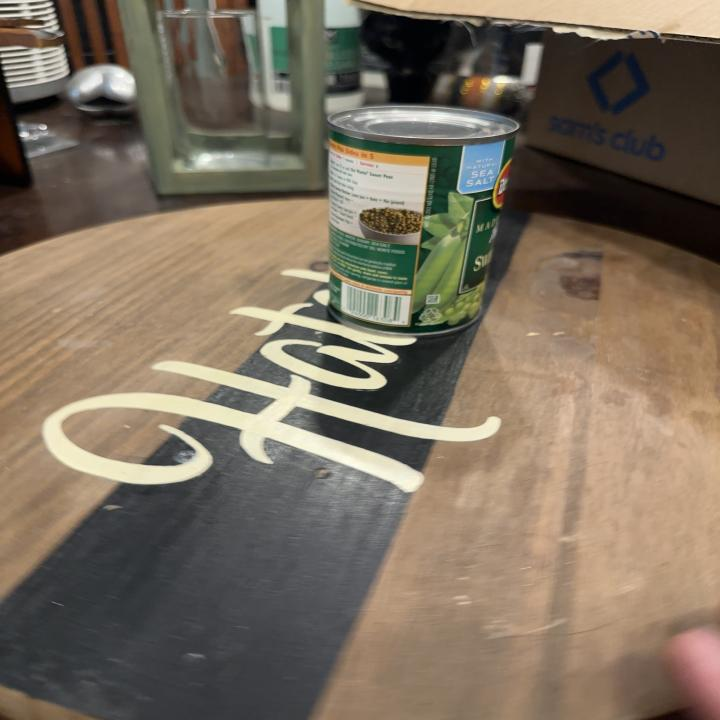Canned-Peas: (326, 102, 524, 336)
